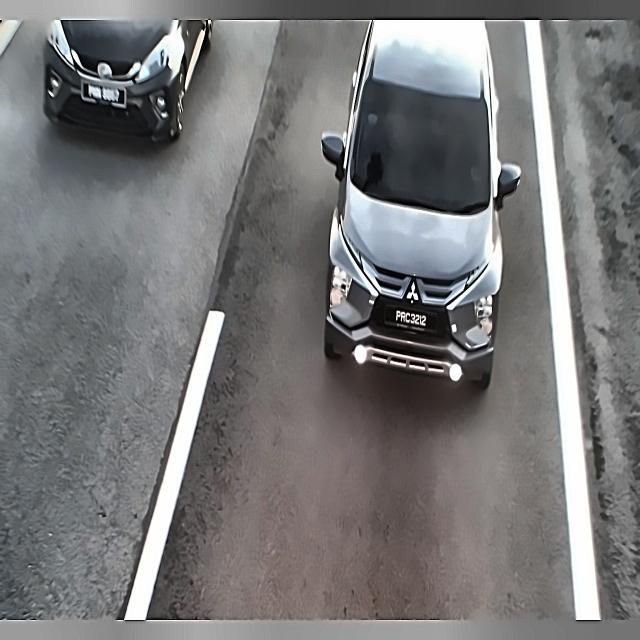car: (77, 77, 130, 112), (393, 305, 430, 335)
